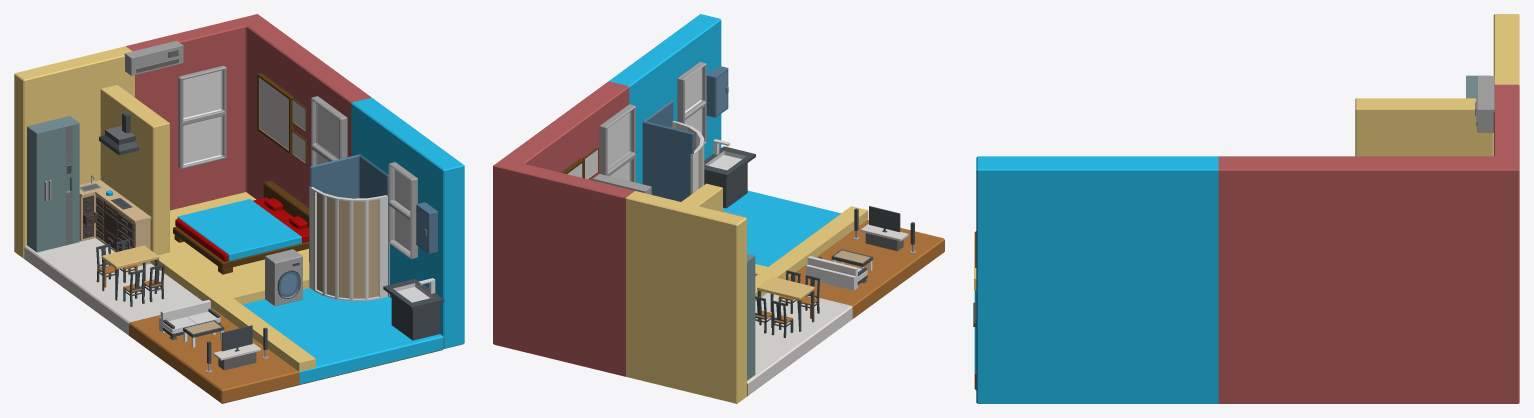
File: housewithoutplane.glb
3 renders of one model, left to right at view 1: azimuth 30°, elevation 25°; view 2: azimuth 150°, elevation 25°; view 3: azimuth 270°, elevation 25°, orthographic. The views are drawn at different scales.
Visible parts, largest first — view 1: Cube.001_Wall_0, Cube.001_Floor4_0, Cube.001_Floor3_0, Cube_Floor4_0, Plane.015, Plane.010, Cube_Floor1_0, Cube_Floor2_0, Cube.012_Glass_0, Plane.021, Cube.012_White_0, Cube.002_Floor3_0 (+29 smaller); view 2: Cube.001_Wall_0, Cube.001_Floor3_0, Cube.001_Floor4_0, Cube_Floor1_0, Cube_Floor2_0, Cube_Floor4_0, Cube.011_Blue_0, Cube.002_Floor3_0, Plane.024, Plane.009, Cube.005_gray_0, Plane.004 (+14 smaller); view 3: Cube.001_Wall_0, Cube.001_Floor4_0, Plane.015, Cube.001_Floor3_0, Cube.008_gray_0.
Boxes of the visible parts, x1,y1,x2,y2 form: Cube.001_Wall_0: [126, 14, 371, 210]; Cube.001_Floor4_0: [351, 97, 464, 348]; Cube.001_Floor3_0: [14, 46, 134, 258]; Cube_Floor4_0: [242, 288, 443, 384]; Plane.015: [100, 85, 169, 254]; Plane.010: [27, 116, 79, 252]; Cube_Floor1_0: [129, 307, 443, 403]; Cube_Floor2_0: [24, 238, 202, 335]; Cube.012_Glass_0: [317, 193, 378, 298]; Plane.021: [177, 199, 301, 261]; Cube.012_White_0: [309, 186, 389, 301]; Cube.002_Floor3_0: [150, 252, 315, 371]; Cube.001_Wall_0: [493, 81, 634, 376]; Cube.001_Floor3_0: [626, 191, 746, 403]; Cube.001_Floor4_0: [608, 14, 721, 184]; Cube_Floor1_0: [747, 219, 944, 396]; Cube_Floor2_0: [747, 293, 852, 395]; Cube_Floor4_0: [723, 190, 840, 266]; Cube.011_Blue_0: [642, 100, 693, 201]; Cube.002_Floor3_0: [755, 206, 868, 301]; Plane.024: [704, 139, 755, 208]; Plane.009: [755, 270, 819, 337]; Cube.005_gray_0: [599, 104, 635, 182]; Plane.004: [806, 256, 867, 290]; Cube.001_Wall_0: [1218, 84, 1519, 403]; Cube.001_Floor4_0: [976, 156, 1218, 403]; Plane.015: [1355, 98, 1493, 156]; Cube.001_Floor3_0: [1493, 14, 1519, 85]; Cube.008_gray_0: [1475, 76, 1494, 132].
Size of the model in its own units: 28.52 by 20.44 by 42.13.
